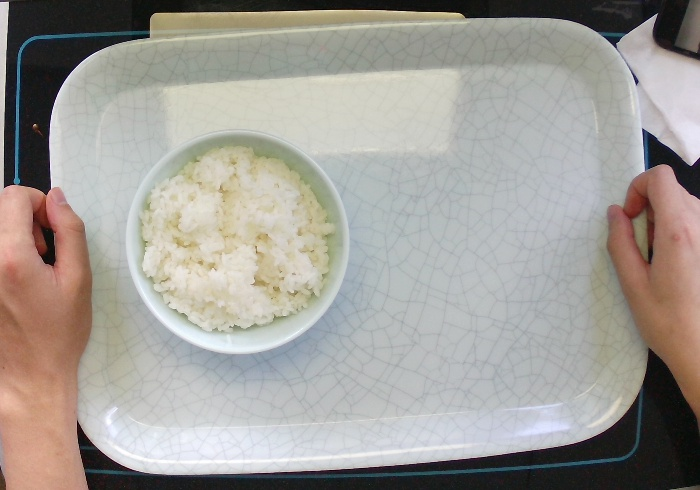JYsf-Fan_Wan: (122, 130, 352, 356)
